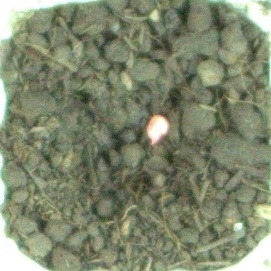chilli seed: (142, 112, 173, 147)
